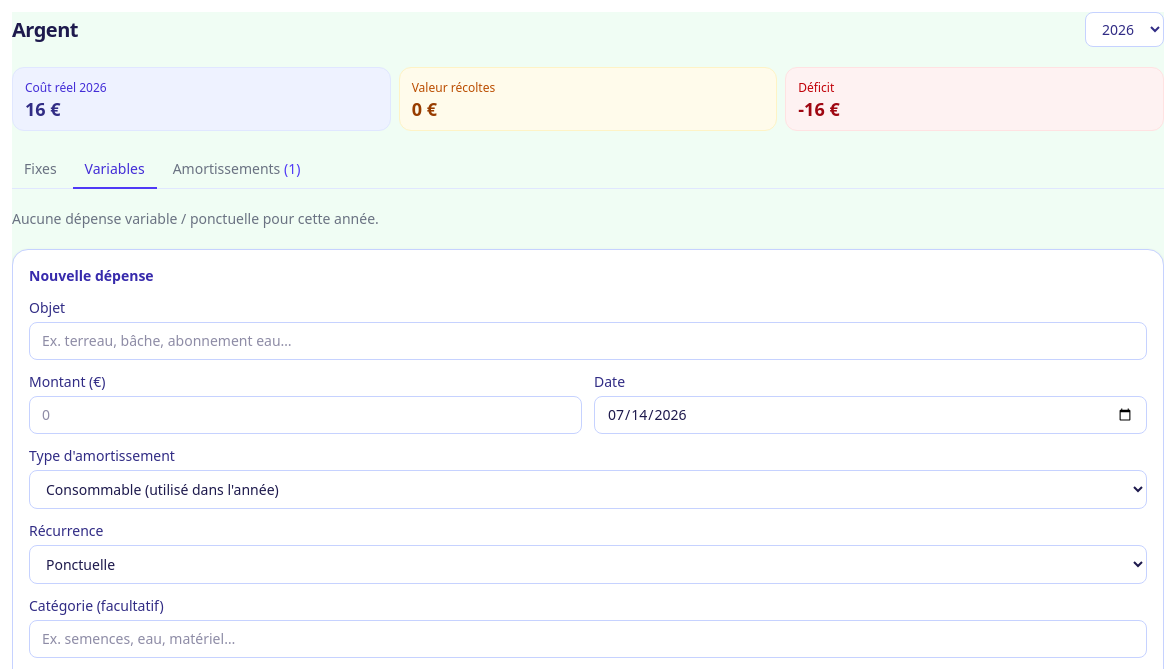
Test: ArgentPage › affiche une bâche durable à 16 €/an dans l’onglet Amortissements
// Bascule sur l'onglet Amortissements
What coordinates should you click on to do the following:
click the button "Amortissements (1)"
I would click on:
 (237, 170)
Its box is [161,151,312,189].
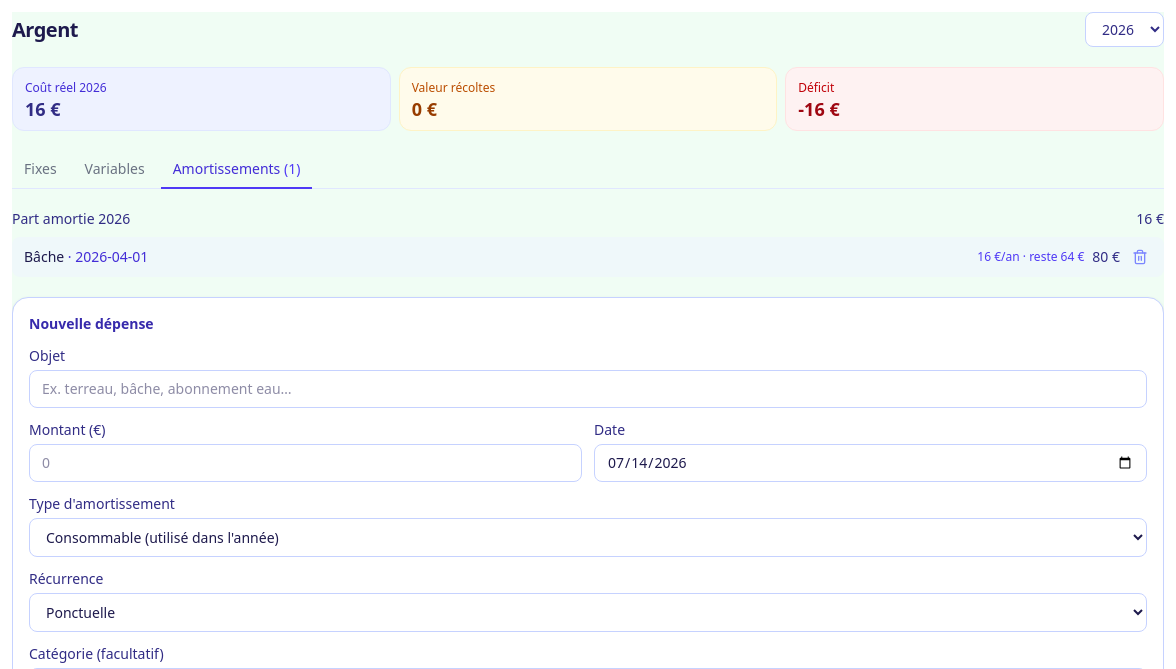
Result: the text "Bâche" is shown at [24,247,64,266]
Result: the text "16 €/an · reste 64 €" is shown at [977,249,1084,265]
